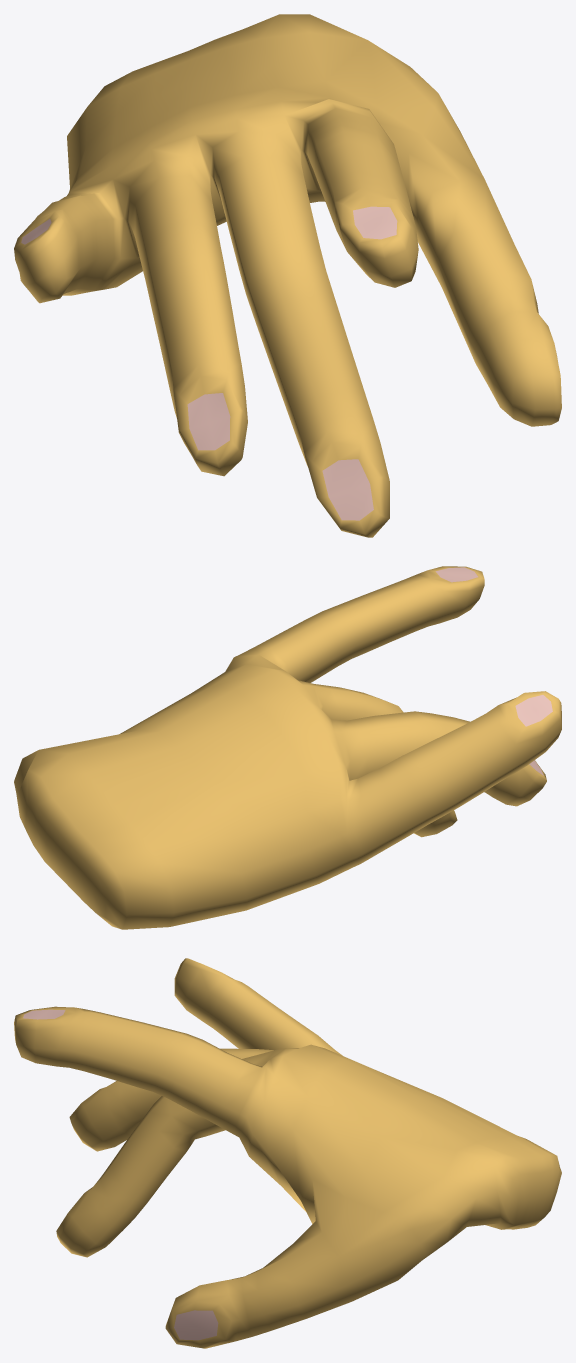
Rendered from Hand_Pizza.fbx.
The picture shows the model from 3 angles, top to bottom: view 1: azimuth 30°, elevation 25°; view 2: azimuth 150°, elevation 25°; view 3: azimuth 270°, elevation 25°; orthographic projection. The views are drawn at different scales.
Visible parts, largest first — view 1: Hand; view 2: Hand; view 3: Hand.
Boxes of the visible parts, x1,y1,x2,y2 form: Hand: (14, 14, 561, 537); Hand: (14, 566, 561, 929); Hand: (14, 958, 561, 1348).
Size of the model in its own units: 537 by 636 by 316.
